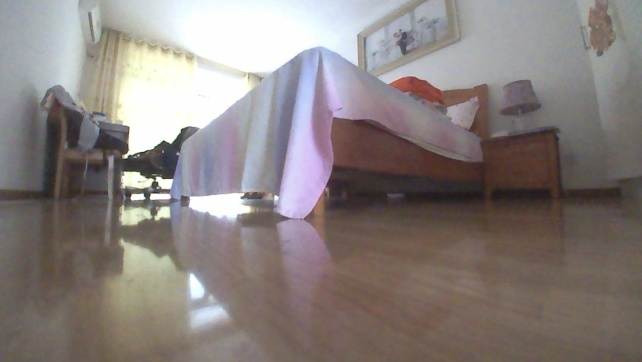bed: (165, 44, 493, 220)
cabinet: (478, 125, 564, 204)
